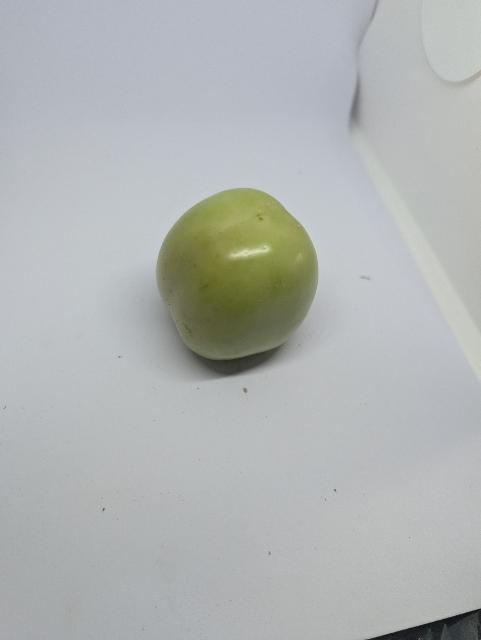green: (147, 179, 331, 384)
